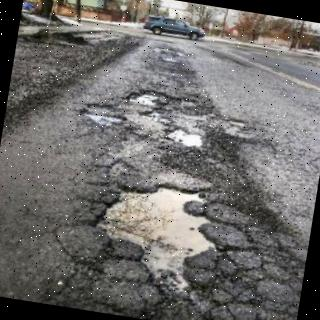pothole: (94, 189, 214, 296), (123, 89, 200, 121), (167, 130, 202, 146), (82, 114, 127, 126), (84, 103, 125, 113), (226, 119, 246, 125)
